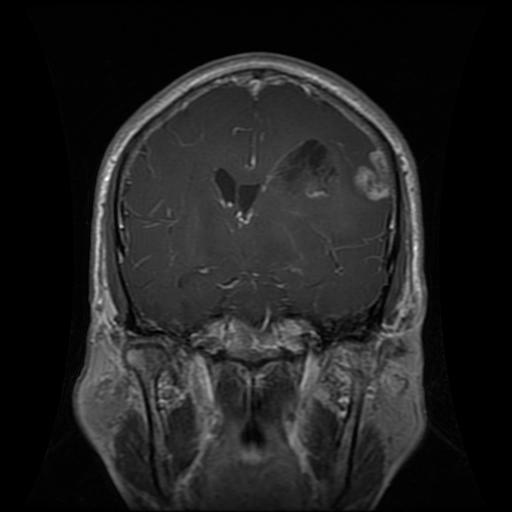Gliomia_tumour: (266, 139, 394, 215)
